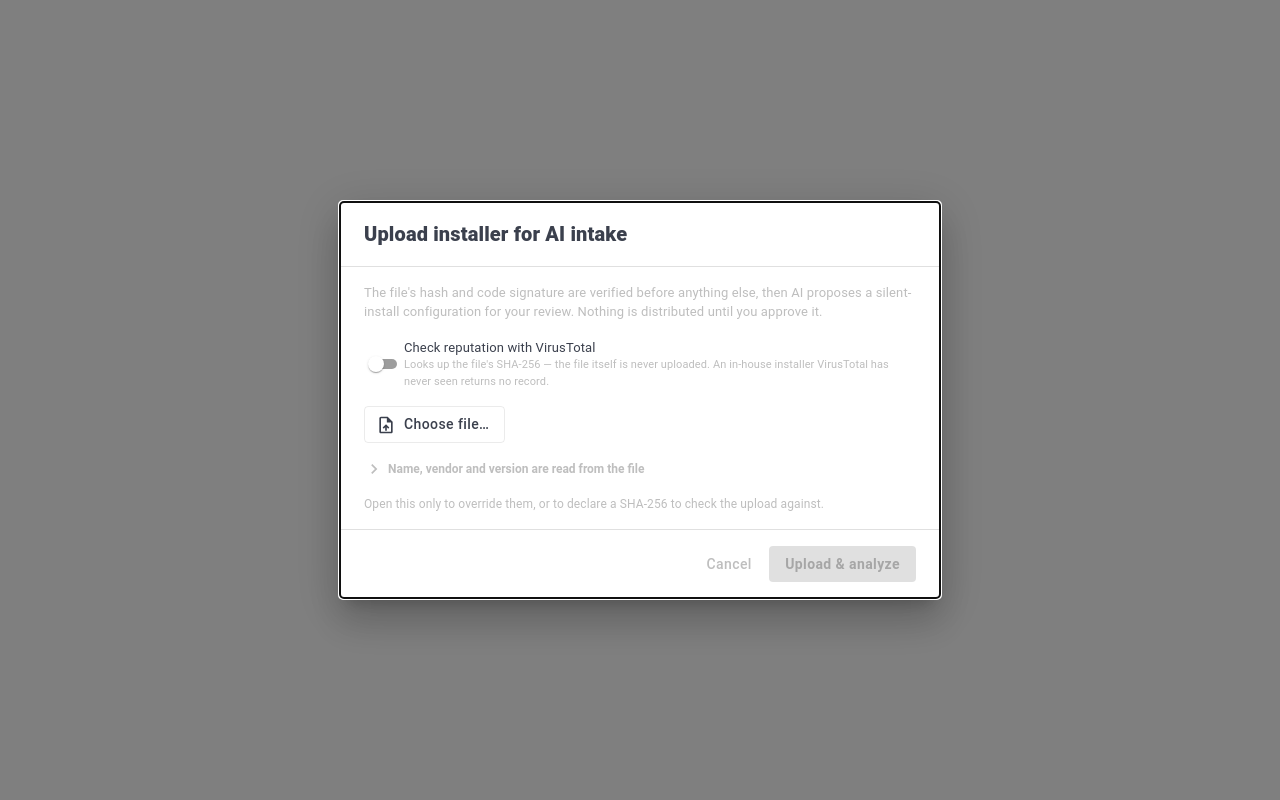
Test: IntakeUploadDialog · las pistas no son lo primero › se pueden abrir para sobreescribir o declarar un hash
Click the button "Name, vendor and version are read from the file". click: click(640, 469)
box: [364,459,916,479]
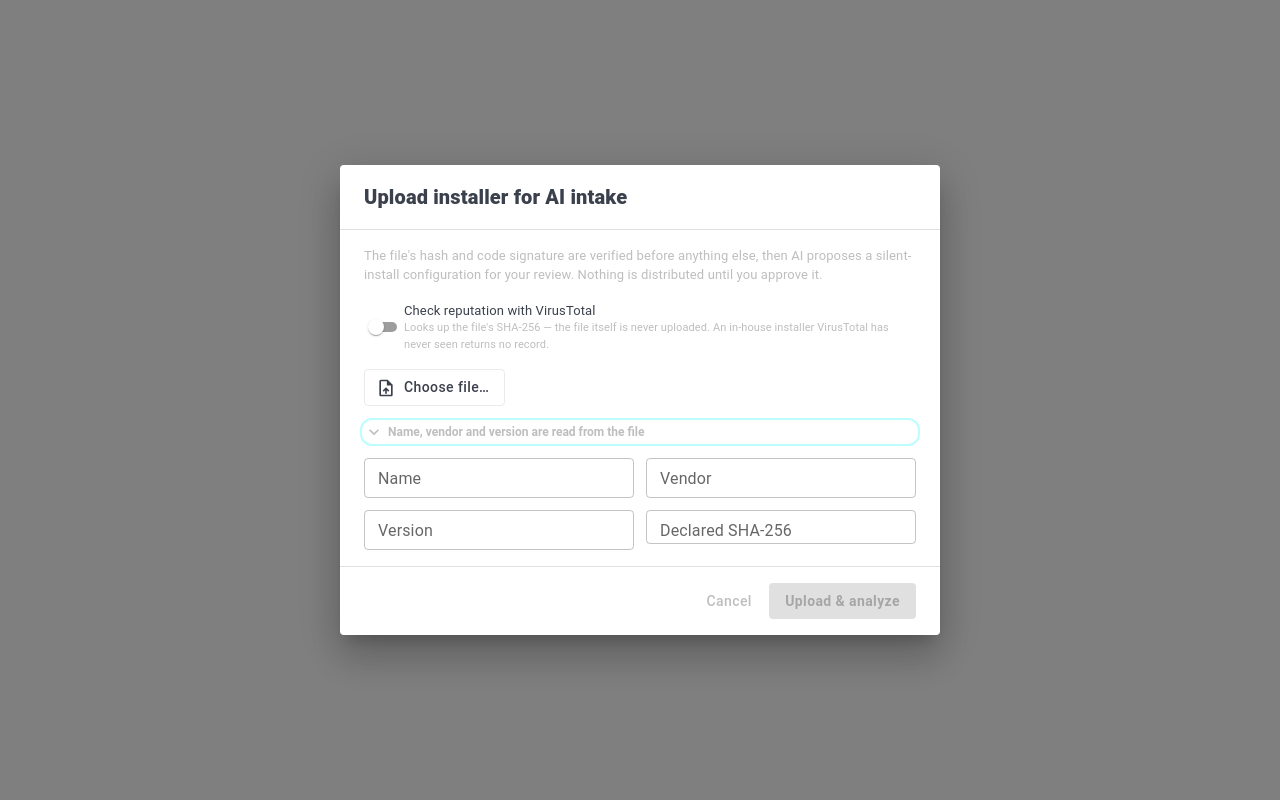
Now the field labelled "Name" is shown, box [364,458,634,498]
Now the field labelled "Declared SHA-256" is shown, box [646,510,916,544]
